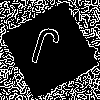J: (25, 25, 62, 77)
